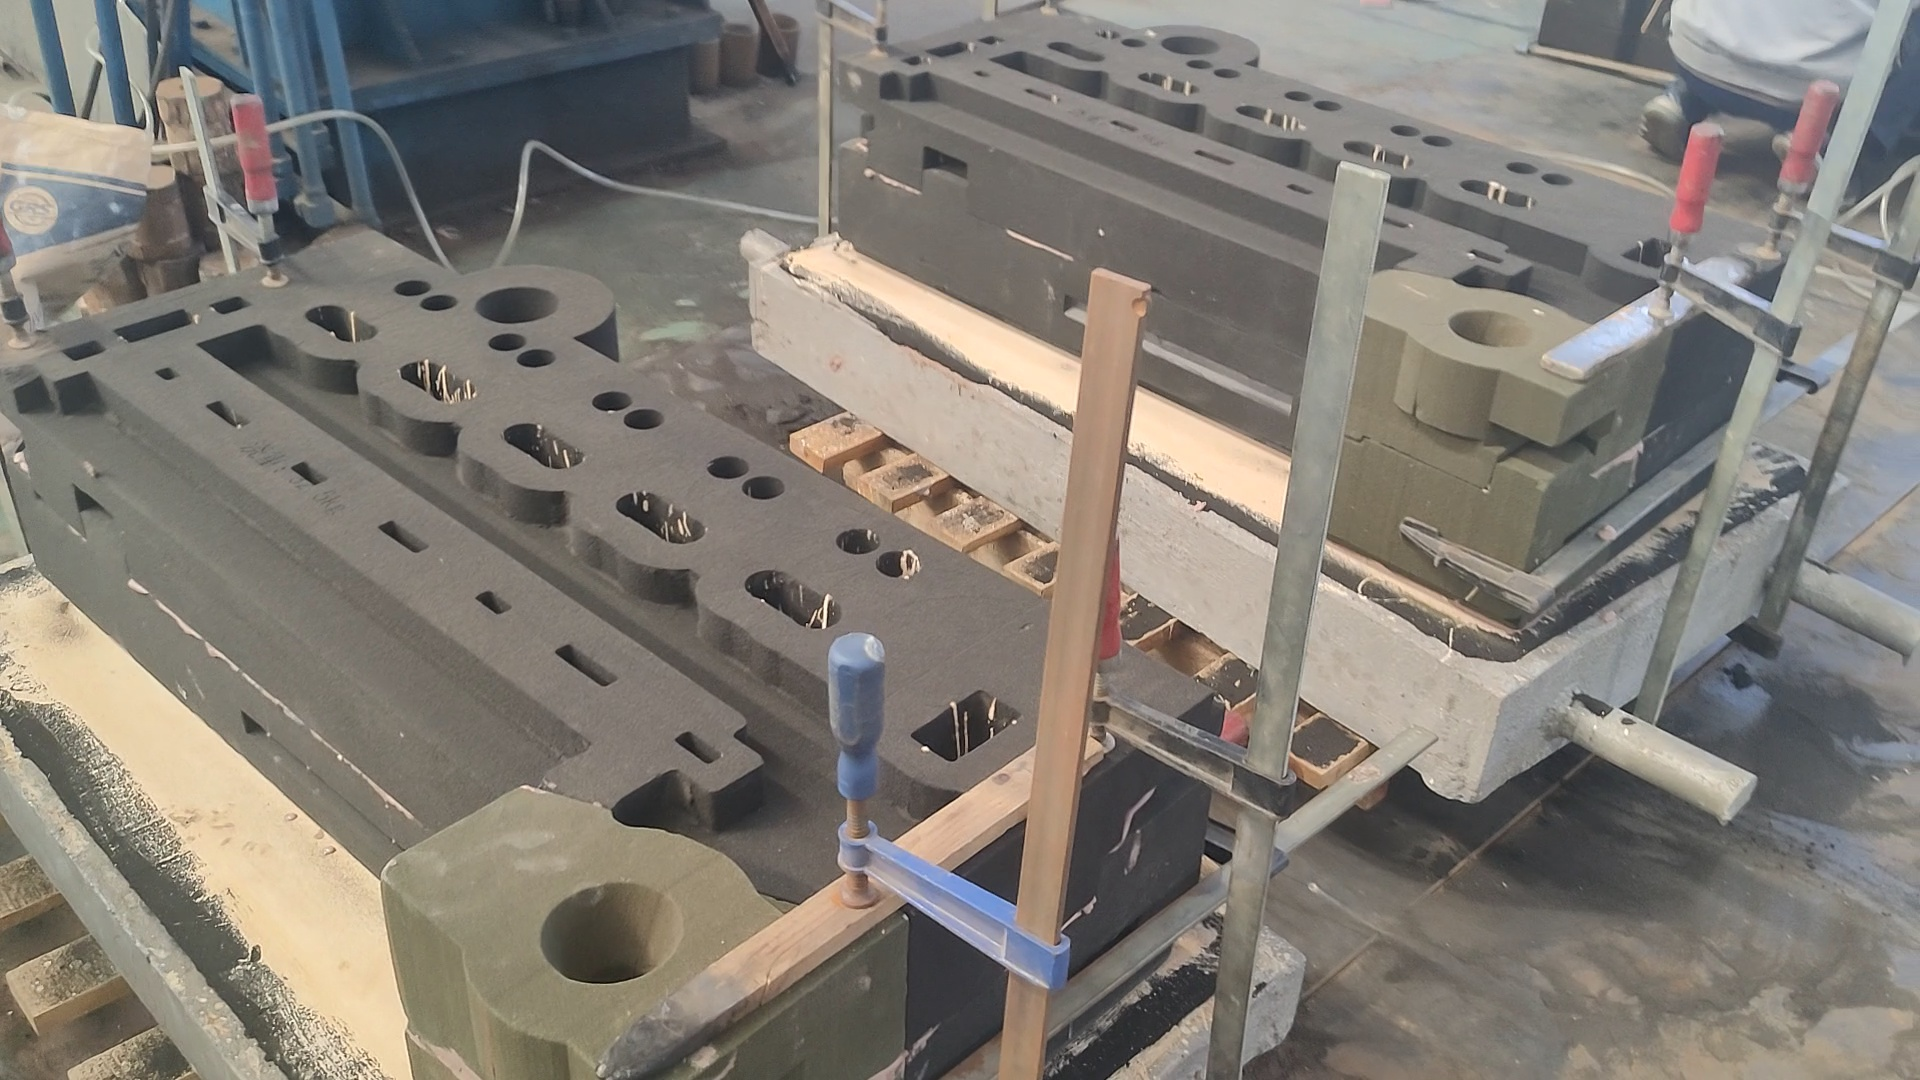pouring hole: (541, 881, 680, 985), (1447, 307, 1542, 348), (473, 285, 560, 324), (1162, 36, 1221, 55), (758, 11, 799, 32), (679, 30, 721, 46), (688, 9, 724, 26), (721, 22, 756, 40)
